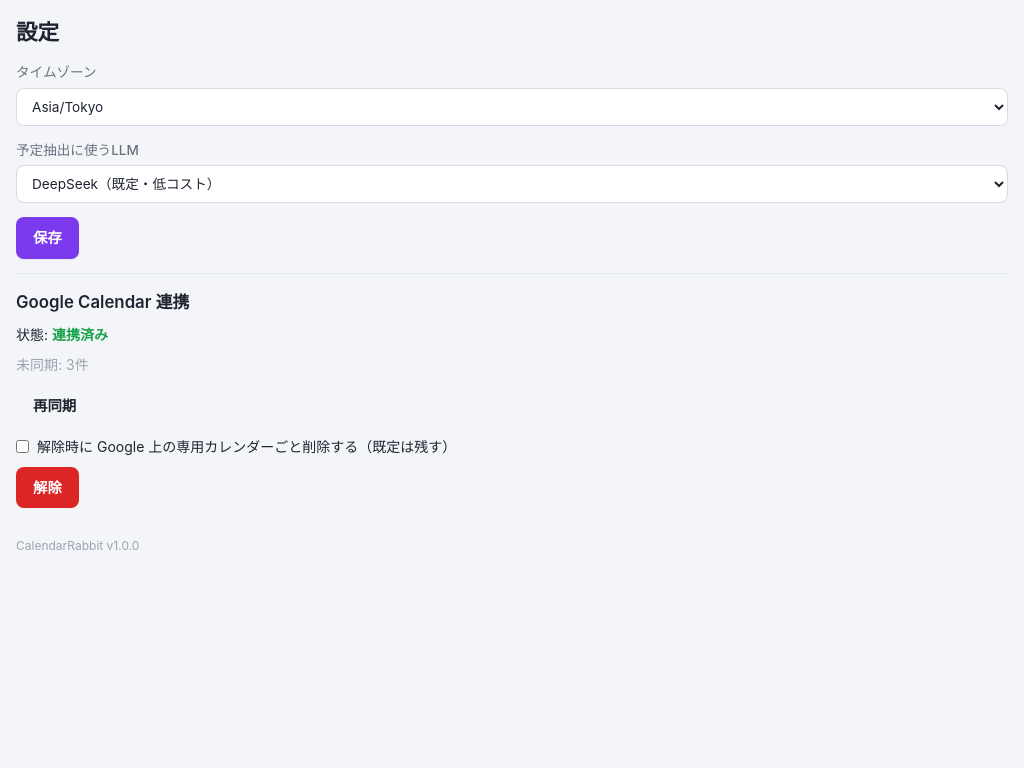
Scenario: SettingsScreen Google 連携 › 再同期で未同期件数が更新される
The width and height of the screenshot is (1024, 768).
Click the button "再同期" at (55, 406), box [16,385,93,427]
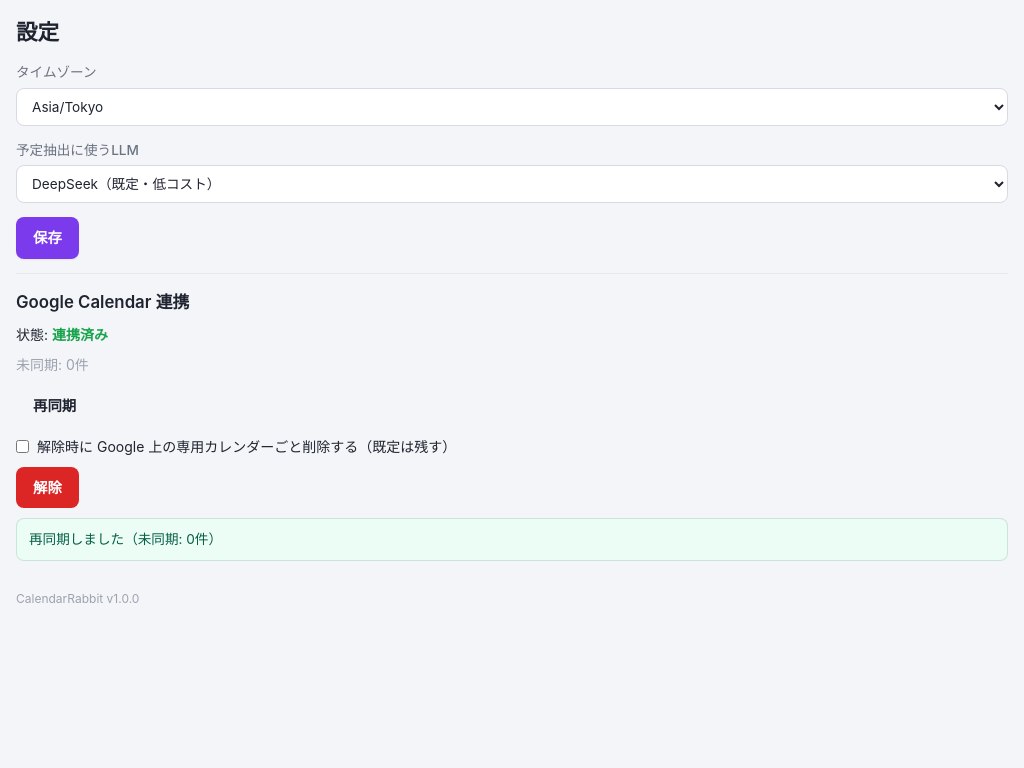
Result: the text "未同期: 0件" is shown at [16,356,89,373]
